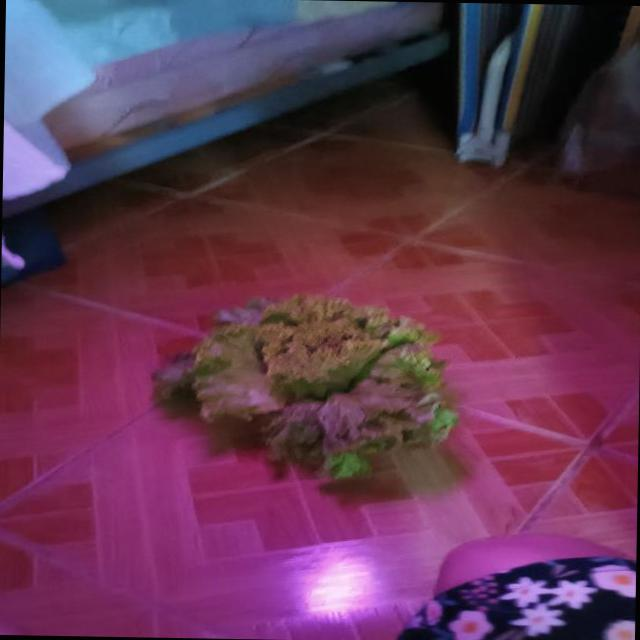Lettuce-Ready-to-Harvest: (156, 295, 457, 479)
